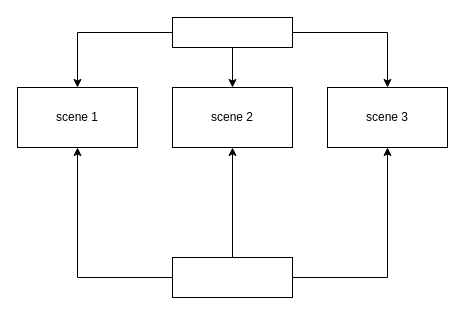
Image size: 465x315. Some labels were removed from this diagram. Here are the shapes that lost their labels. From the top down, the centre of each, then its label:
the point at 232,32: Random Int
the point at 232,277: vehicle
